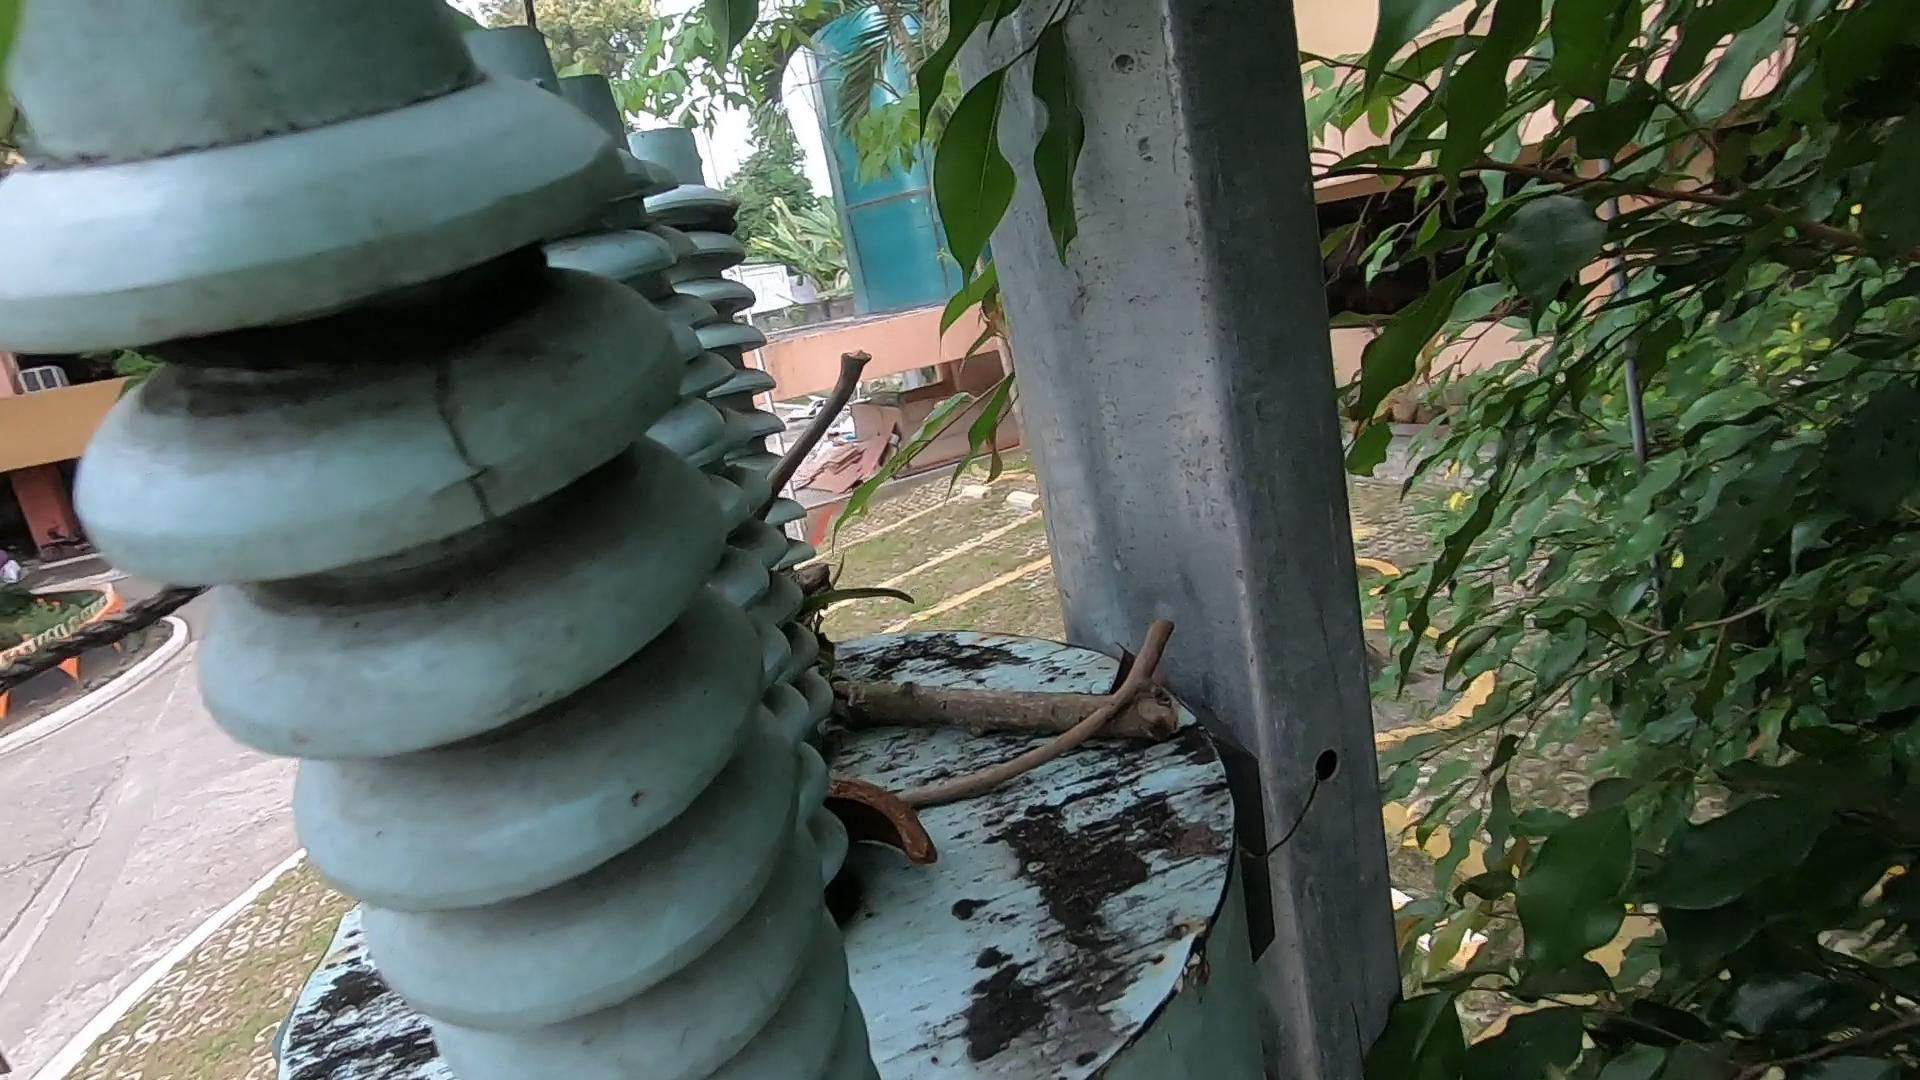mahogany fruit: (791, 749, 926, 861)
tree branch: (934, 605, 1201, 848), (885, 597, 1197, 746), (785, 236, 905, 571)
